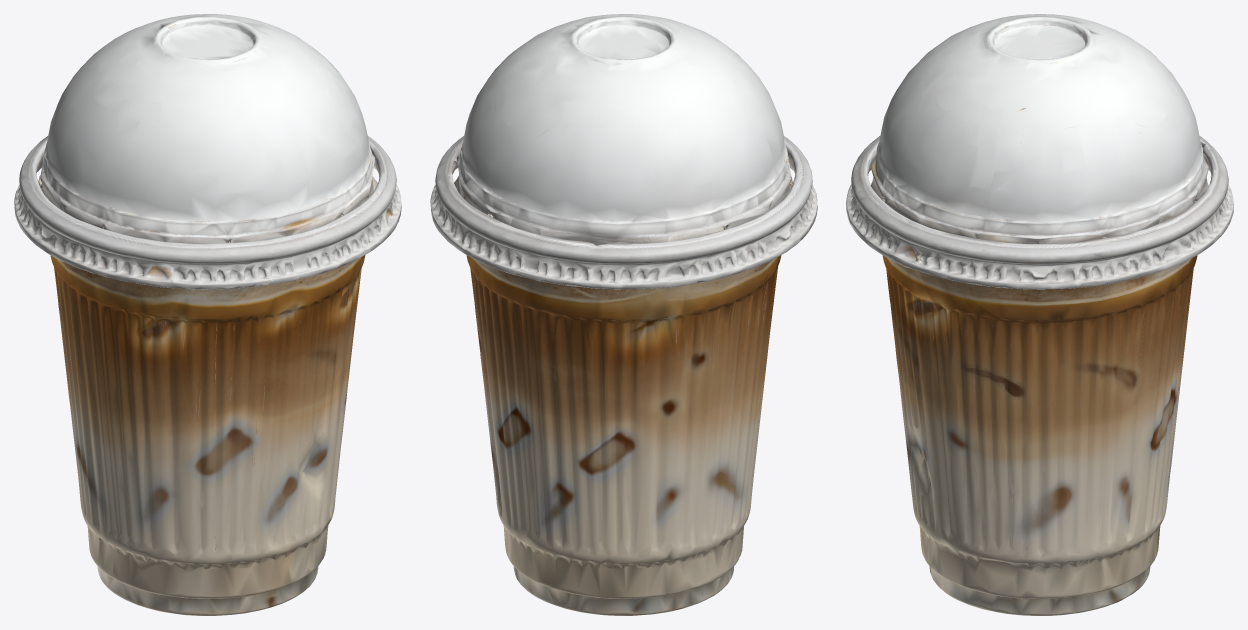
The model's file is cup-iced-takeaway.glb.
The picture shows the model from 3 angles, left to right: view 1: azimuth 30°, elevation 25°; view 2: azimuth 150°, elevation 25°; view 3: azimuth 270°, elevation 25°; orthographic projection.
Visible parts, largest first — view 1: Mesh_0; view 2: Mesh_0; view 3: Mesh_0.
Part boxes in pixels (bbox=[...]): Mesh_0: bbox=[14, 14, 401, 615]; Mesh_0: bbox=[430, 14, 817, 615]; Mesh_0: bbox=[846, 14, 1233, 615].
Bounding box in the file's own units: 41365 × 62640 × 41350.
1 material, 1 textured.
